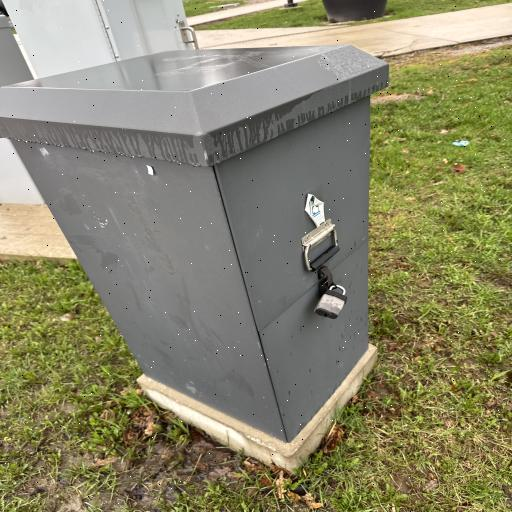Electrical Box: (0, 44, 389, 446)
